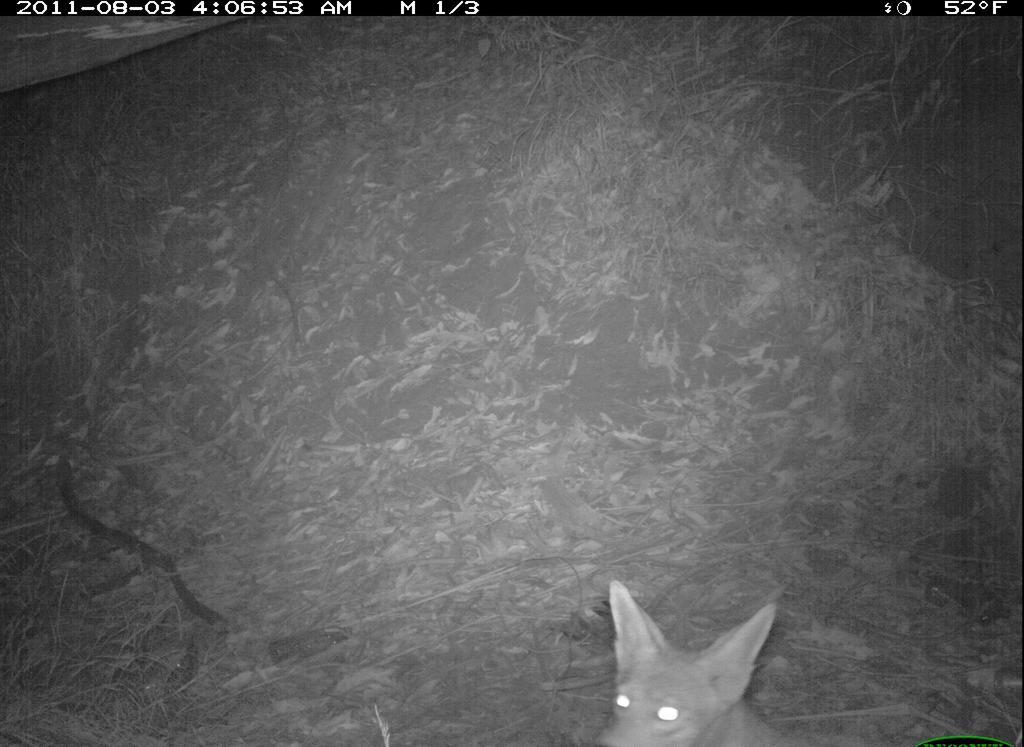coyote: (585, 565, 815, 747)
